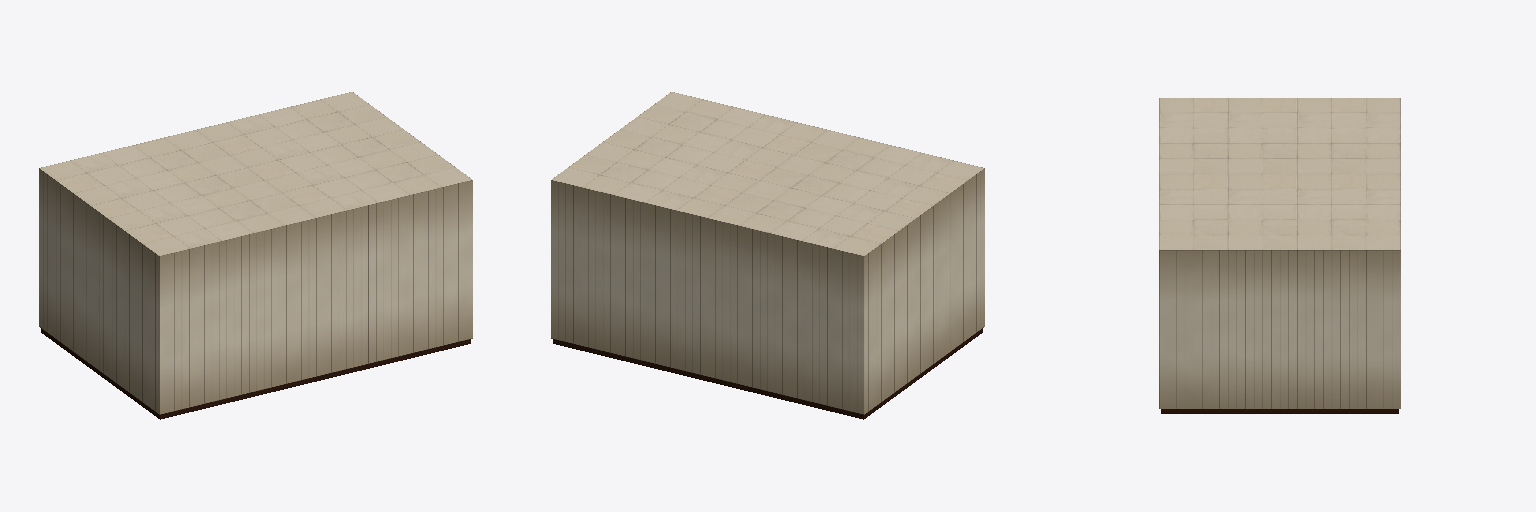
3 renders of one model, left to right at view 1: azimuth 30°, elevation 25°; view 2: azimuth 150°, elevation 25°; view 3: azimuth 270°, elevation 25°, orthographic.
Parts seen in each view (by area): view 1: room_002; view 2: room_002; view 3: room_002.
Boxes of the visible parts, x1,y1,x2,y2 form: room_002: [39, 92, 472, 419]; room_002: [551, 92, 984, 419]; room_002: [1159, 98, 1400, 413].
Size of the model in its own units: 60 by 30 by 40.
1 materials, 1 textured.